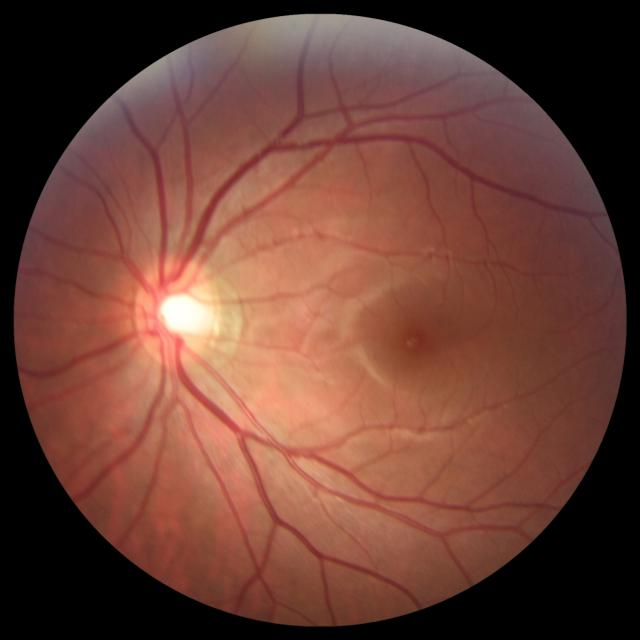OC: (156, 290, 205, 338)
OD: (134, 258, 216, 368)
